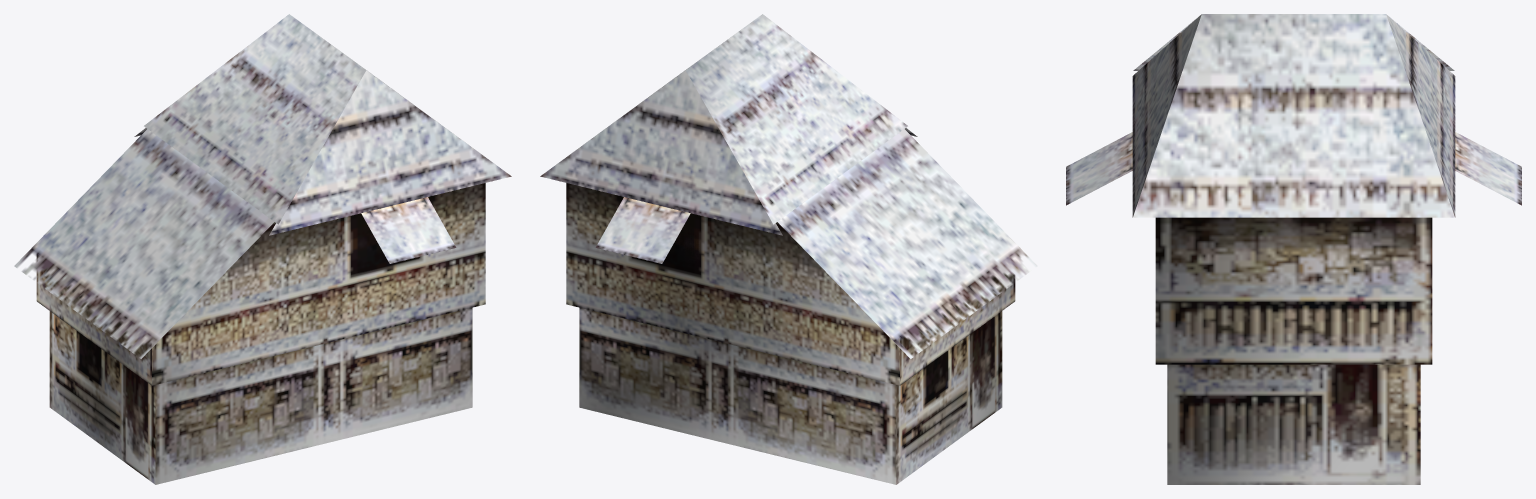
The model's file is Civilian - Residential Building - Farm House - Snow - CBNFarmHse_s.glb.
The picture shows the model from 3 angles, left to right: view 1: azimuth 30°, elevation 25°; view 2: azimuth 150°, elevation 25°; view 3: azimuth 270°, elevation 25°; orthographic projection. The views are drawn at different scales.
Visible parts, largest first — view 1: CBNFARMHSE_S; view 2: CBNFARMHSE_S; view 3: CBNFARMHSE_S.
Boxes of the visible parts, bbox=[...] form: CBNFARMHSE_S: bbox=[14, 14, 511, 484]; CBNFARMHSE_S: bbox=[540, 14, 1037, 484]; CBNFARMHSE_S: bbox=[1066, 14, 1521, 484].
Bounding box in the file's own units: 44 × 40 × 39.59.
Materials: 1 (1 with a texture image).
